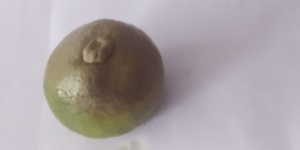BAD: (42, 17, 165, 139)
